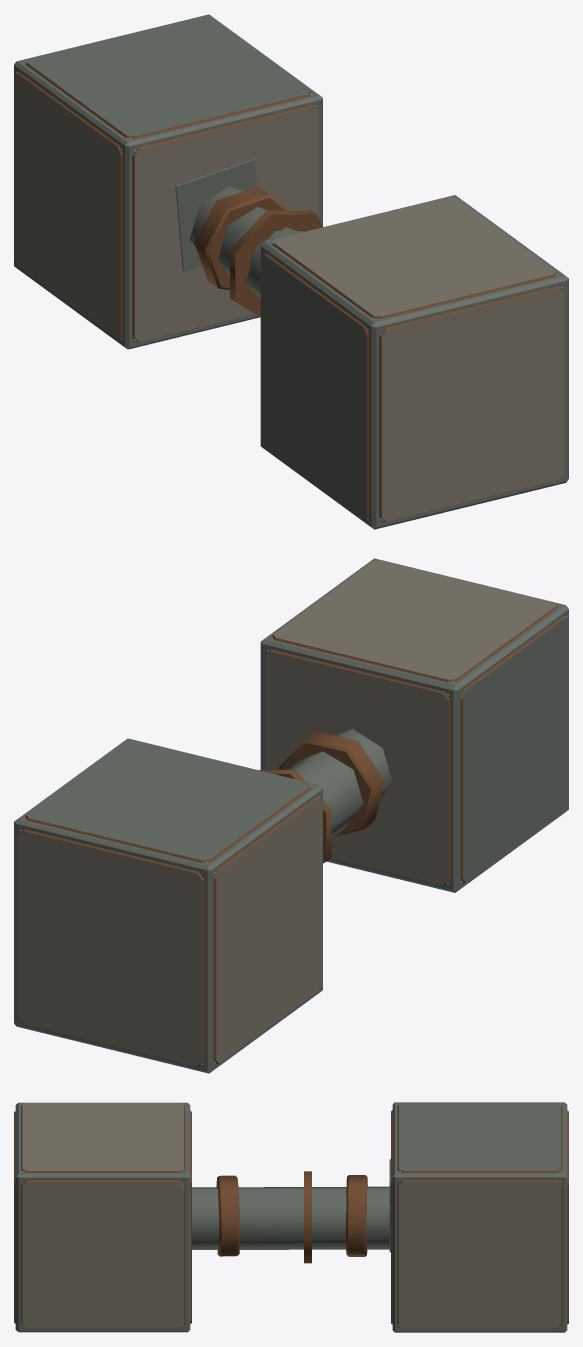
Rendered from R4C_STRUT_STANDARD.fbx.
The picture shows the model from 3 angles, top to bottom: view 1: azimuth 30°, elevation 25°; view 2: azimuth 150°, elevation 25°; view 3: azimuth 270°, elevation 25°; orthographic projection. The views are drawn at different scales.
Parts seen in each view (by area): view 1: R4C_STRUT_STANDARD; view 2: R4C_STRUT_STANDARD; view 3: R4C_STRUT_STANDARD.
Part boxes in pixels (x1,y1,x2,y2): R4C_STRUT_STANDARD: [14, 14, 568, 529]; R4C_STRUT_STANDARD: [14, 558, 568, 1073]; R4C_STRUT_STANDARD: [14, 1102, 568, 1332].
Bounding box in the file's own units: 0.52 × 0.52 × 1.62.
